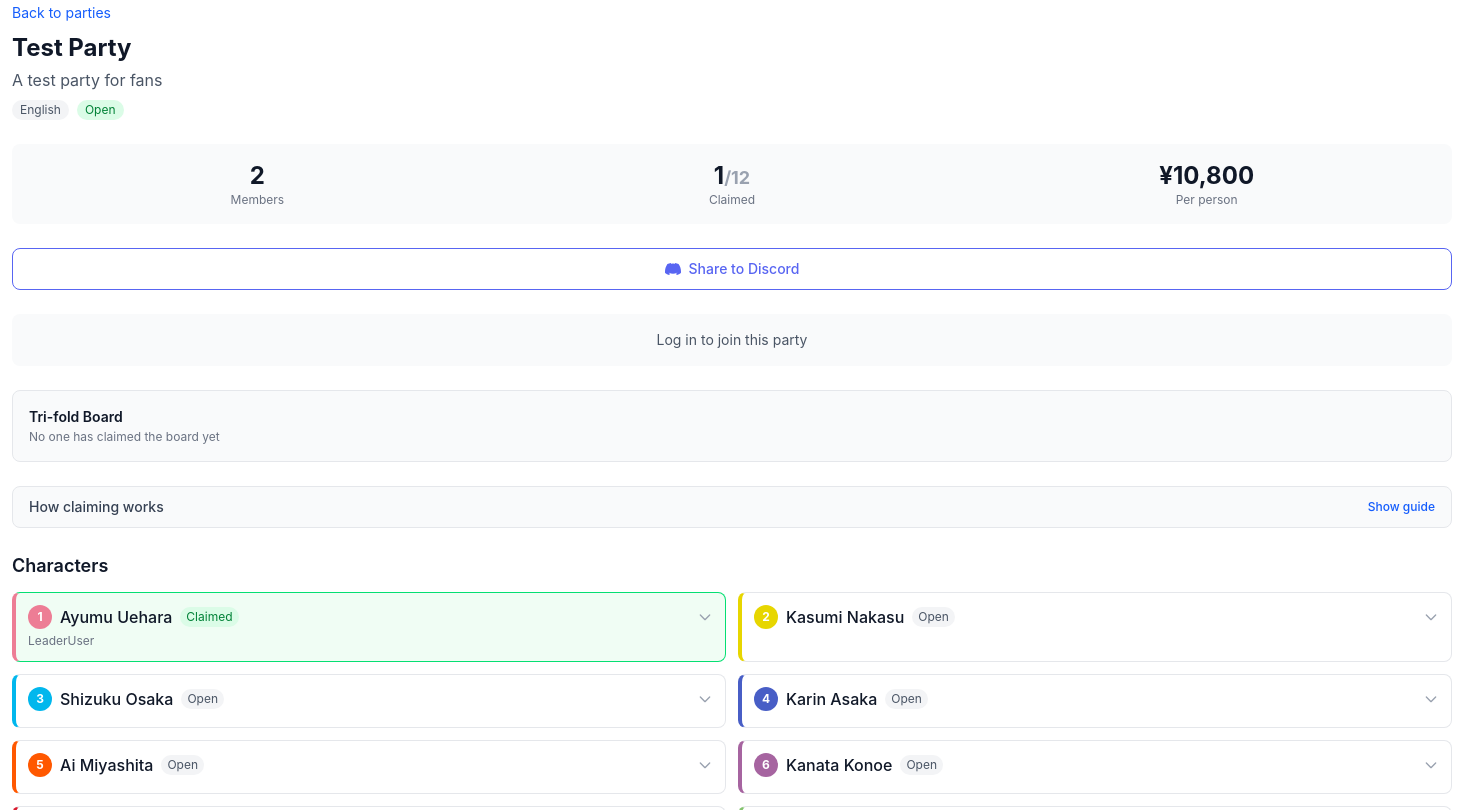
Test case: PartyDetail — Discord share button › copies formatted message to clipboard when clicked
Expected: the heading "Test Party" is shown, x1=12 y1=33 x2=132 y2=62
Step 1. Click the button "Share to Discord" → (732, 269), box x1=12 y1=248 x2=1452 y2=290
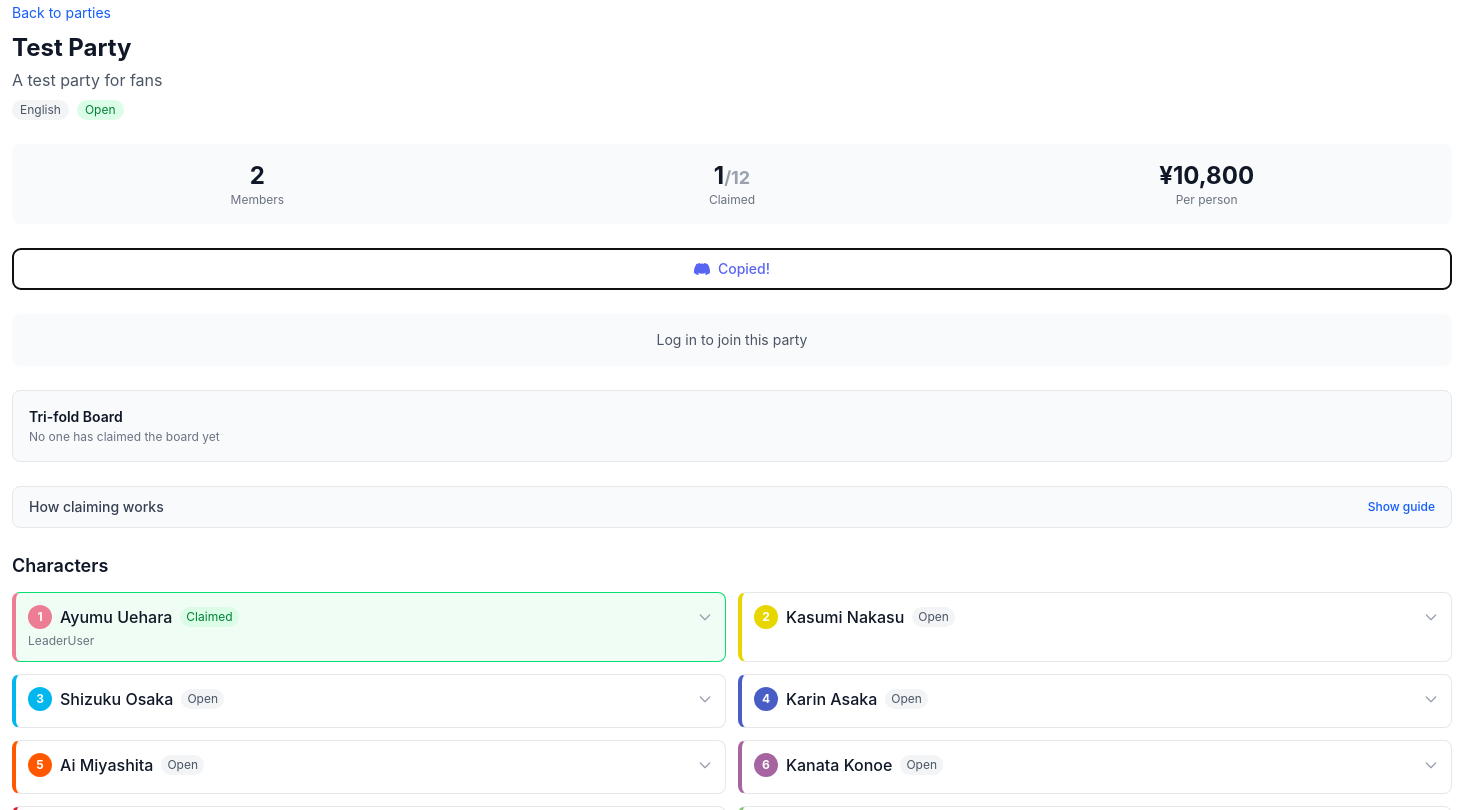
Result: the button "Copied!" is shown at x1=12 y1=248 x2=1452 y2=290
